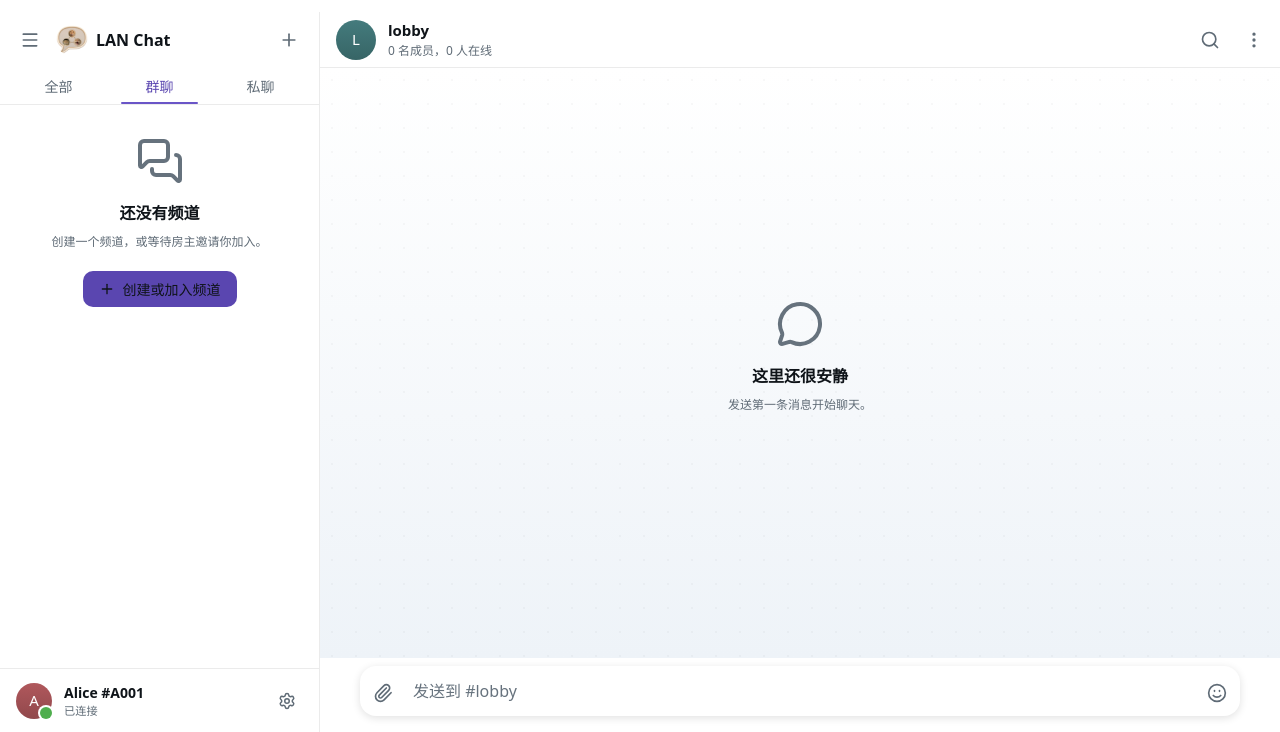
it: App › marks the notification settings as not yet available and returns to the chat
Click the button named "设置": (287, 700) [271,684,303,716]
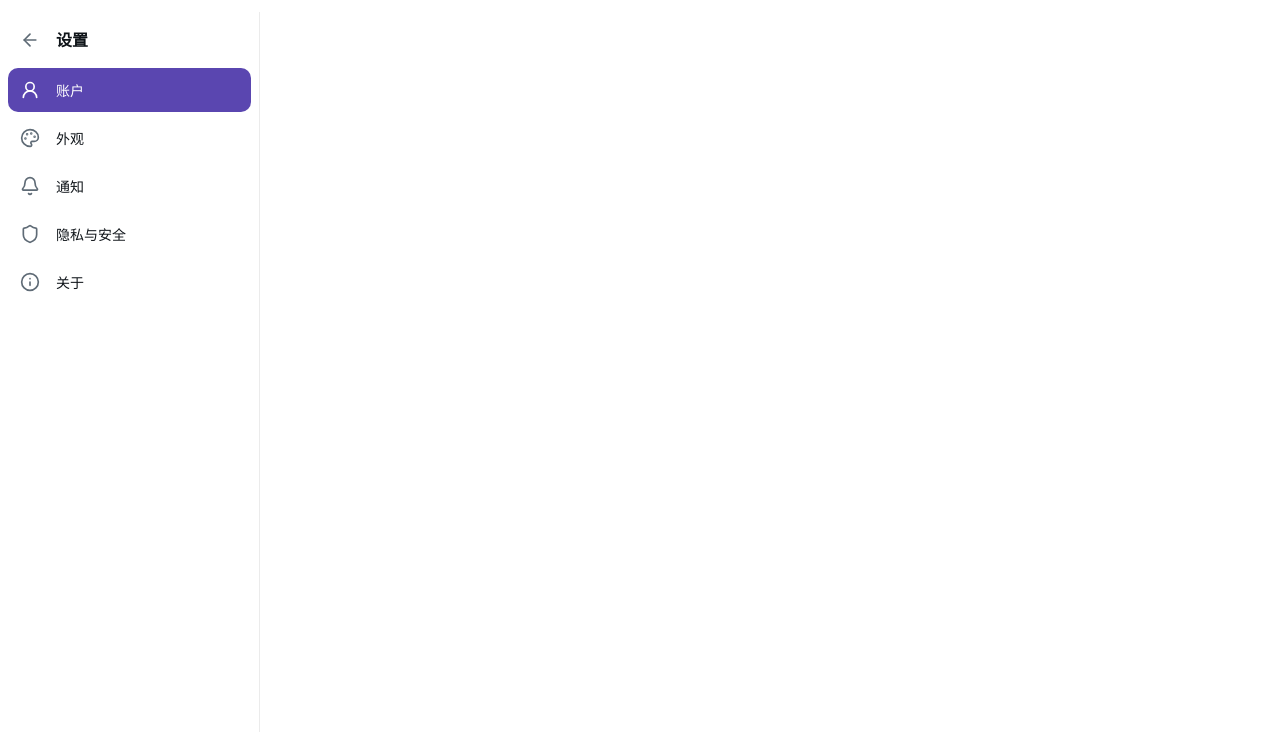
Click the button "通知": (130, 186) [8,164,251,208]
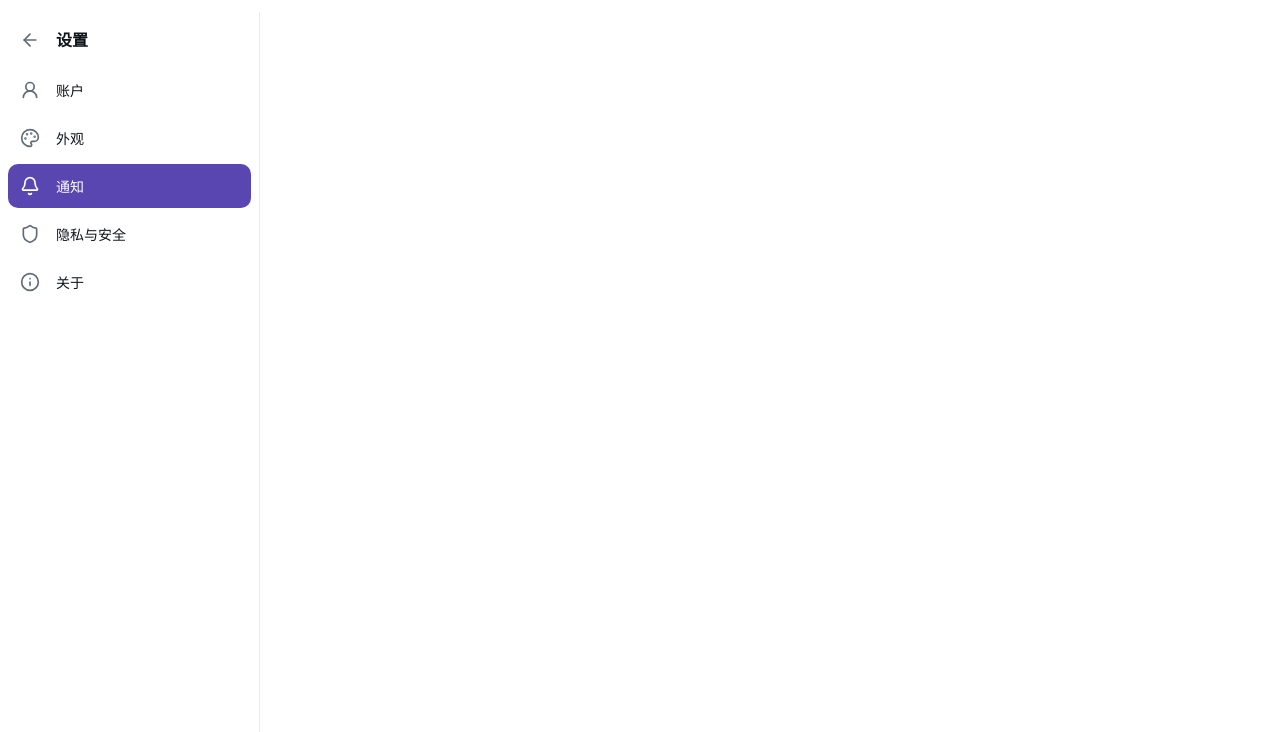
Click the button named "返回聊天": (30, 40) [12,22,48,58]
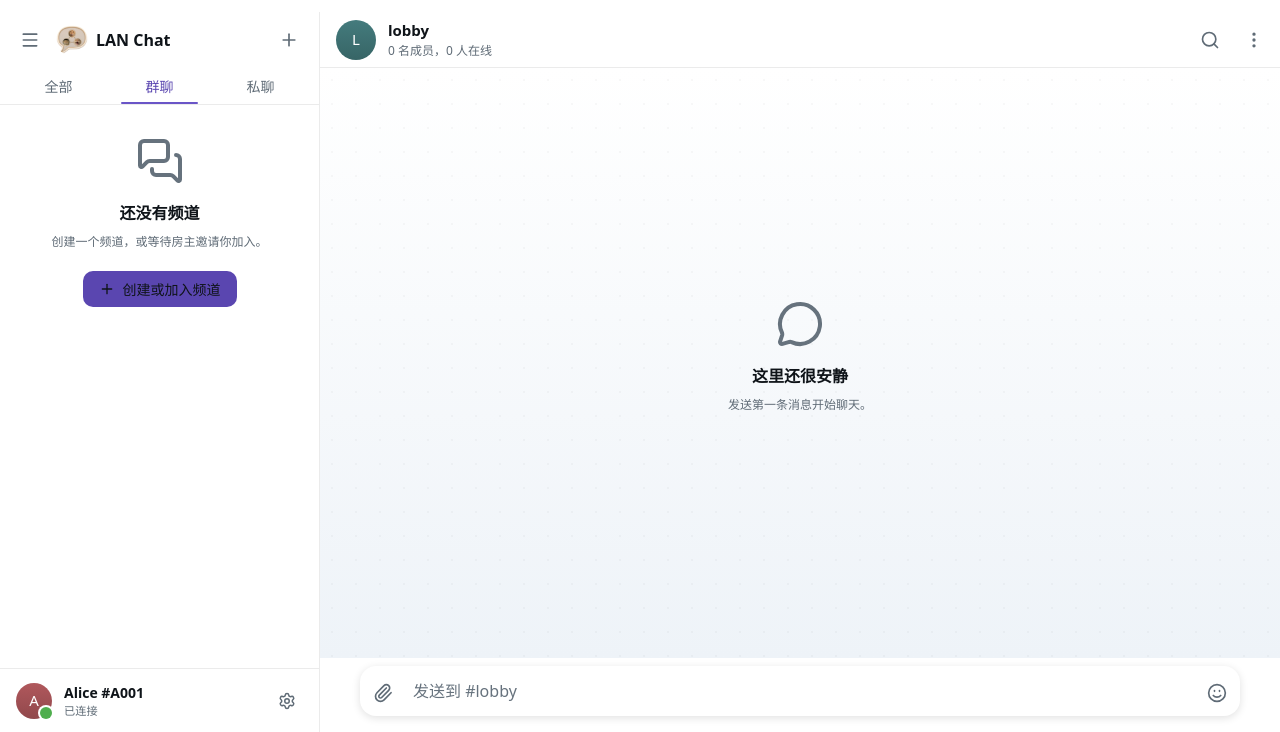
Now the heading named "# lobby" is shown, box [388,20,429,40]
